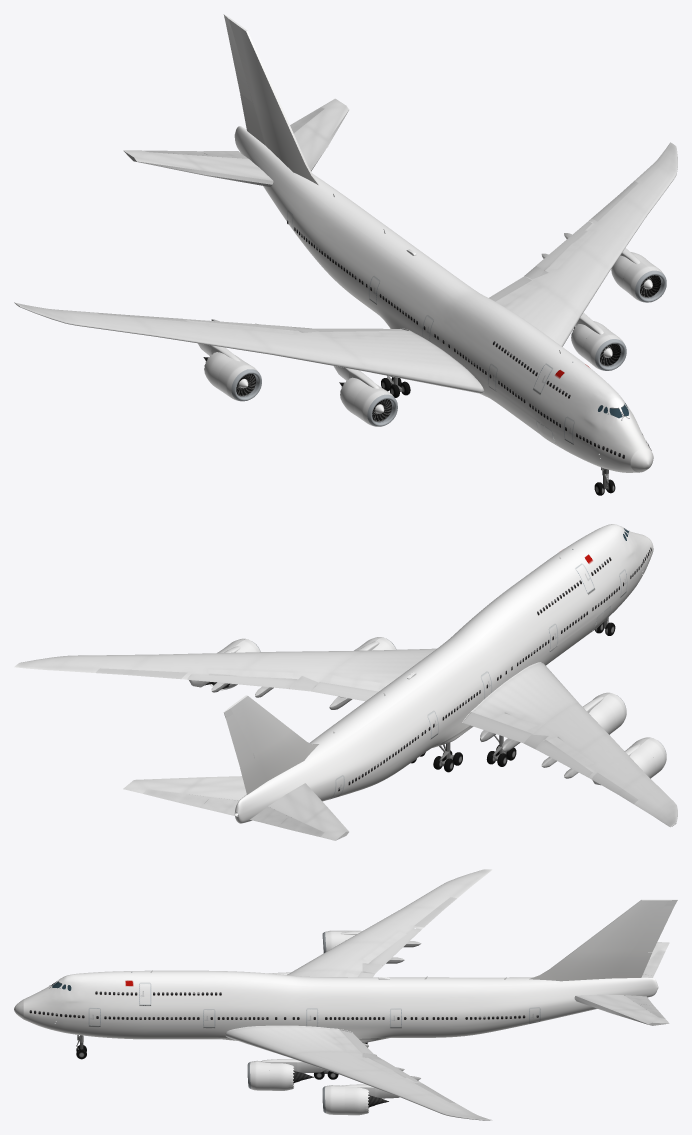
3 renders of one model, top to bottom at view 1: azimuth 30°, elevation 25°; view 2: azimuth 150°, elevation 25°; view 3: azimuth 270°, elevation 25°, orthographic. The views are drawn at different scales.
Visible parts, largest first — view 1: Fuselage, Wings, HorizontalTail, VerticalTail, EnginePortInner, EngineStarboardInner, EngineStarboardOuter, EnginePortOuter, LandingGear; view 2: Fuselage, Wings, HorizontalTail, VerticalTail, LandingGear, EngineStarboardInner, EngineStarboardOuter, EnginePortInner; view 3: Fuselage, Wings, VerticalTail, EnginePortInner, HorizontalTail, EnginePortOuter, EngineStarboardOuter.
Boxes of the visible parts, box(x1,y1,x2,y2) form: Fuselage: box(234, 126, 653, 472); Wings: box(14, 142, 677, 393); HorizontalTail: box(123, 98, 348, 186); VerticalTail: box(223, 14, 318, 185); EnginePortInner: box(198, 248, 640, 388); EngineStarboardInner: box(203, 357, 397, 426); EngineStarboardOuter: box(204, 352, 261, 401); EnginePortOuter: box(611, 252, 666, 302); LandingGear: box(381, 375, 615, 495); Fuselage: box(234, 524, 653, 823); Wings: box(14, 648, 677, 827); HorizontalTail: box(123, 776, 348, 840); VerticalTail: box(223, 695, 318, 794); LandingGear: box(411, 617, 615, 772); EngineStarboardInner: box(205, 682, 626, 734); EngineStarboardOuter: box(625, 737, 666, 778); EnginePortInner: box(189, 637, 639, 785); Fuselage: box(14, 970, 658, 1042); Wings: box(225, 869, 492, 1120); VerticalTail: box(529, 899, 677, 981); EnginePortInner: box(247, 931, 399, 1098); HorizontalTail: box(574, 942, 669, 1025); EnginePortOuter: box(322, 1085, 375, 1115); EngineStarboardOuter: box(322, 930, 360, 952).
Size of the model in its own units: 68.4 by 20.02 by 76.55.
6 materials, 2 textured.
